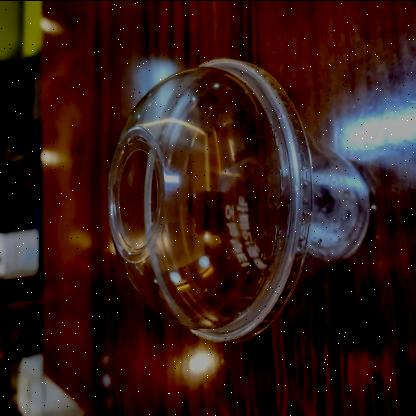Others: (104, 52, 370, 342)
